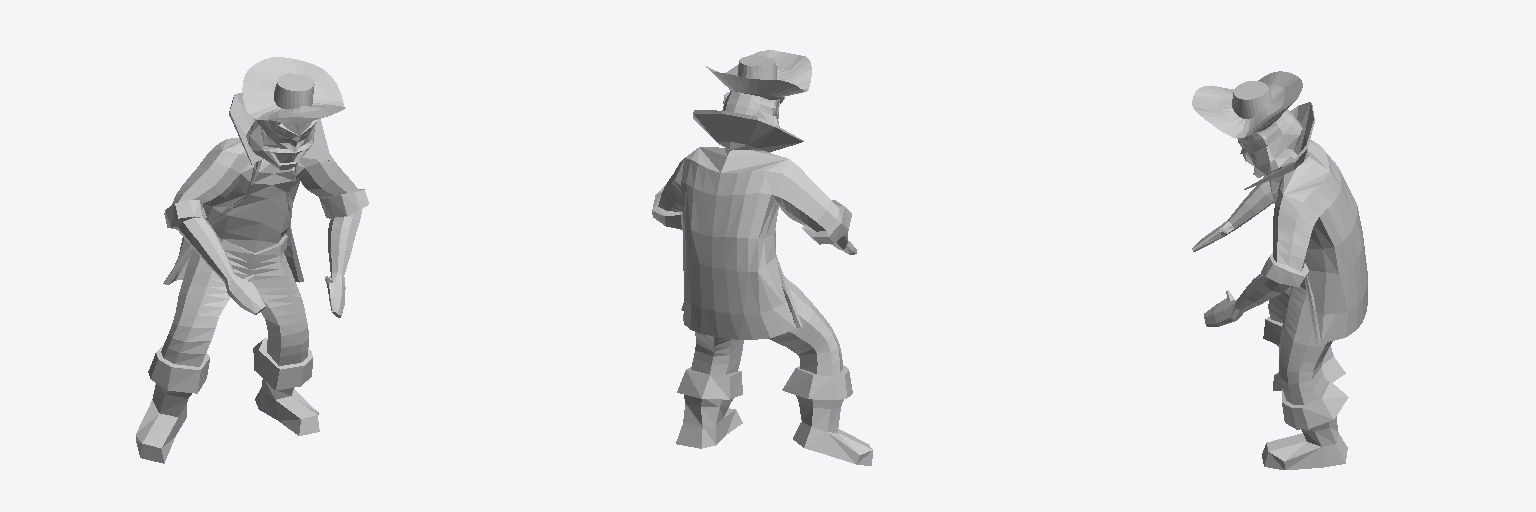
File: PirataCelebracion_000139.obj
3 renders of one model, left to right at view 1: azimuth 30°, elevation 25°; view 2: azimuth 150°, elevation 25°; view 3: azimuth 270°, elevation 25°, orthographic.
Visible parts, largest first — view 1: Pirata_PirataH; view 2: Pirata_PirataH; view 3: Pirata_PirataH.
Boxes of the visible parts, <box> form: Pirata_PirataH: <box>136,57,368,463</box>; Pirata_PirataH: <box>652,50,872,465</box>; Pirata_PirataH: <box>1192,71,1367,469</box>.
Bounding box in the file's own units: 4.5 × 7.18 × 3.13.